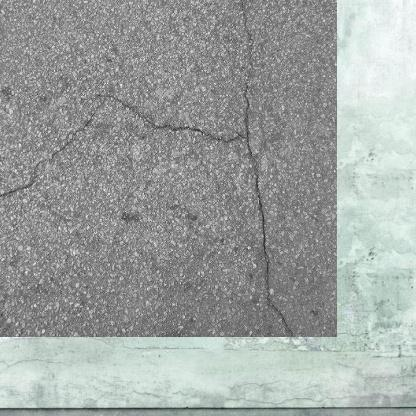Cracks: (0, 0, 273, 311)
